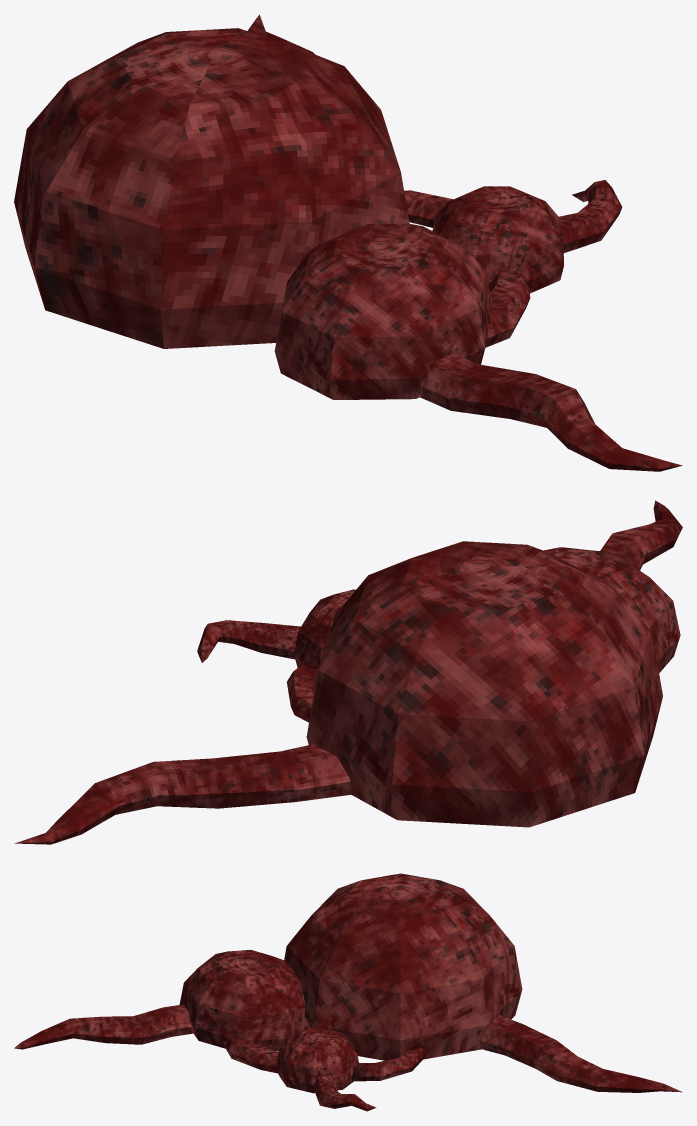
Rendered from pustule_grp_1.fbx.
3 views of the same model, one above another, from view 1: azimuth 30°, elevation 25°; view 2: azimuth 150°, elevation 25°; view 3: azimuth 270°, elevation 25° (orthographic). The views are drawn at different scales.
Parts seen in each view (by area): view 1: bubble_3, bubble_2, root_1, bubble_1, root_2, connector_2, connector_1; view 2: bubble_3, root_3, bubble_2, root_2, root_1, bubble_1, connector_1; view 3: bubble_3, bubble_2, root_3, root_1, bubble_1, connector_1, connector_2, root_2.
Part boxes in pixels (box(x1,y1,x2,y2)): bubble_3: box(14, 28, 409, 348); bubble_2: box(274, 223, 492, 399); root_1: box(420, 353, 682, 471); bubble_1: box(432, 186, 563, 293); root_2: box(559, 180, 622, 252); connector_2: box(485, 271, 530, 347); connector_1: box(404, 190, 453, 227); bubble_3: box(306, 541, 662, 827); root_3: box(14, 744, 351, 844); bubble_2: box(544, 547, 680, 673); root_2: box(197, 620, 300, 662); root_1: box(600, 500, 682, 570); bubble_1: box(294, 589, 355, 667); connector_1: box(287, 657, 319, 722); bubble_3: box(284, 873, 522, 1060); bubble_2: box(179, 949, 307, 1051); root_3: box(479, 1015, 682, 1092); root_1: box(14, 1004, 193, 1049); bubble_1: box(276, 1027, 358, 1093); connector_1: box(352, 1048, 426, 1081); connector_2: box(223, 1037, 278, 1073); root_2: box(313, 1075, 376, 1111).
Bounding box in the file's own units: 17.14 × 6.57 × 31.71.
